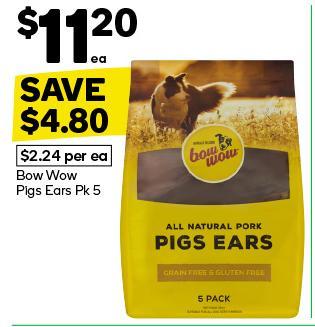description_block: (5, 164, 108, 200)
price_main: (15, 4, 142, 68)
product_image_block: (114, 53, 312, 323)
promo_text_block: (9, 72, 135, 141)
unit_price_block: (9, 141, 121, 170)
